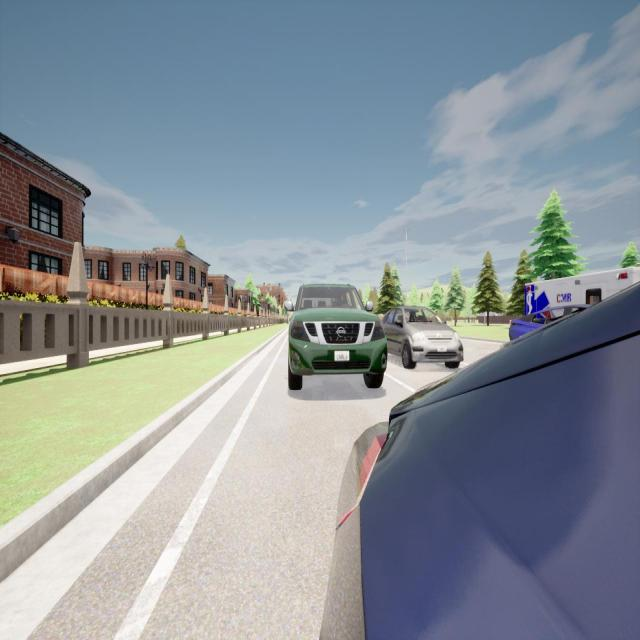Vehicle: (320, 283, 640, 638), (285, 284, 387, 389), (380, 305, 464, 369), (525, 267, 639, 314), (509, 304, 600, 340)
